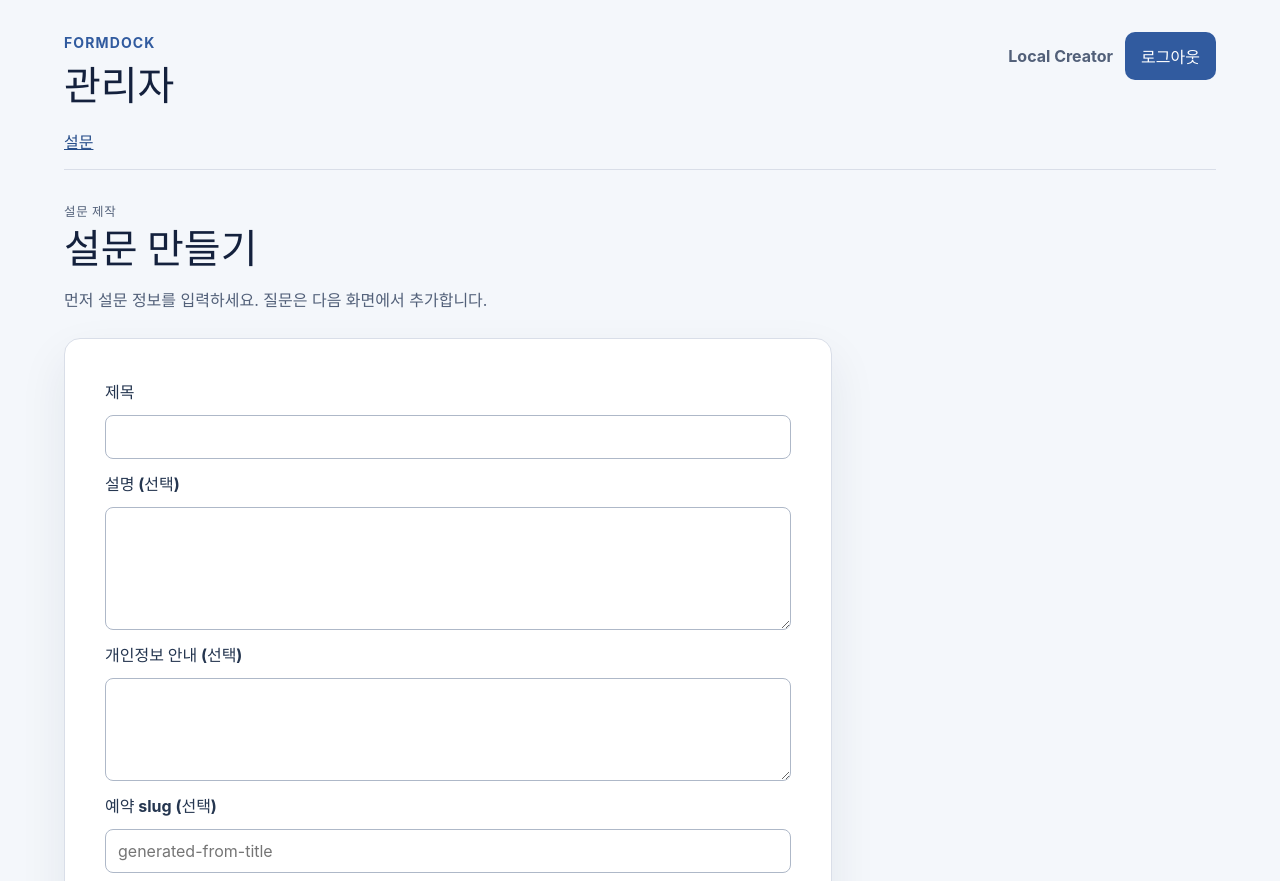
Survey Creator workflow › should_createSurvey_withNullGeneratedSlugIntent_andNavigateToBuilder
This screenshot has width=1280, height=881.
Expected: the heading "설문 만들기" is shown, x1=64 y1=224 x2=258 y2=273
Type " Research survey " into the field labelled "제목" at (448, 437), box x1=105 y1=415 x2=791 y2=459
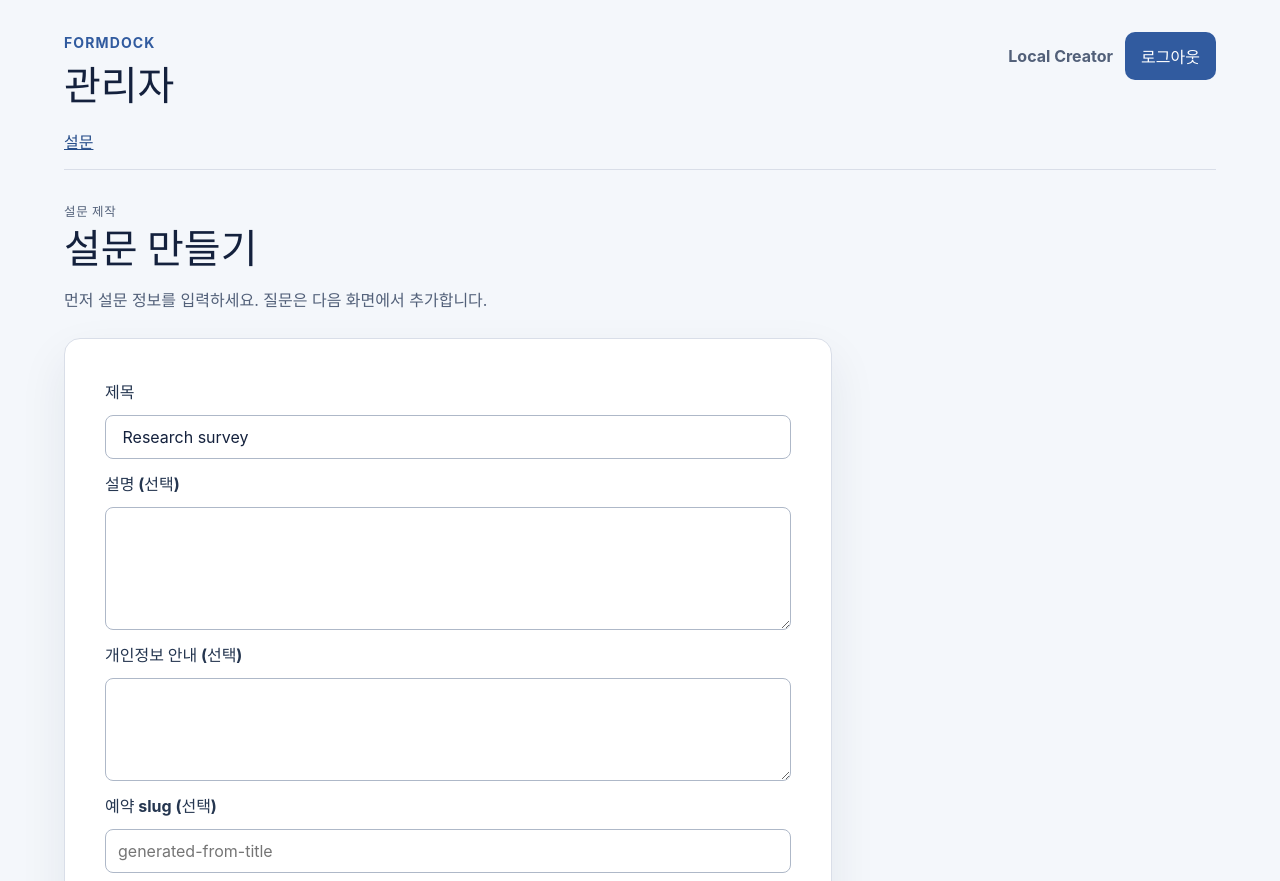
Type " Discovery " into the text box labelled "설명 (선택)" at (448, 568), box x1=105 y1=507 x2=791 y2=630
(page scrolled)
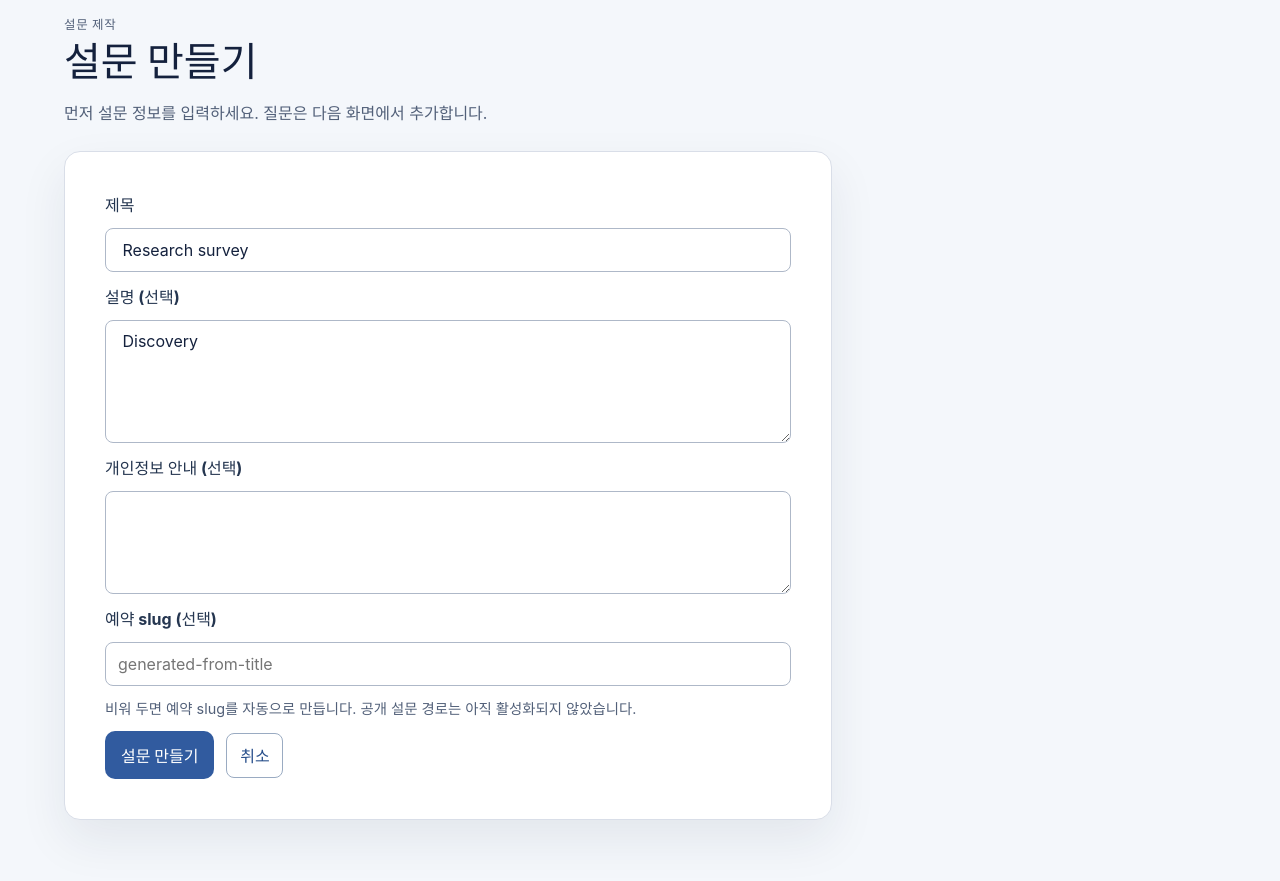
Click the button "설문 만들기" at (160, 755), box x1=105 y1=731 x2=214 y2=779
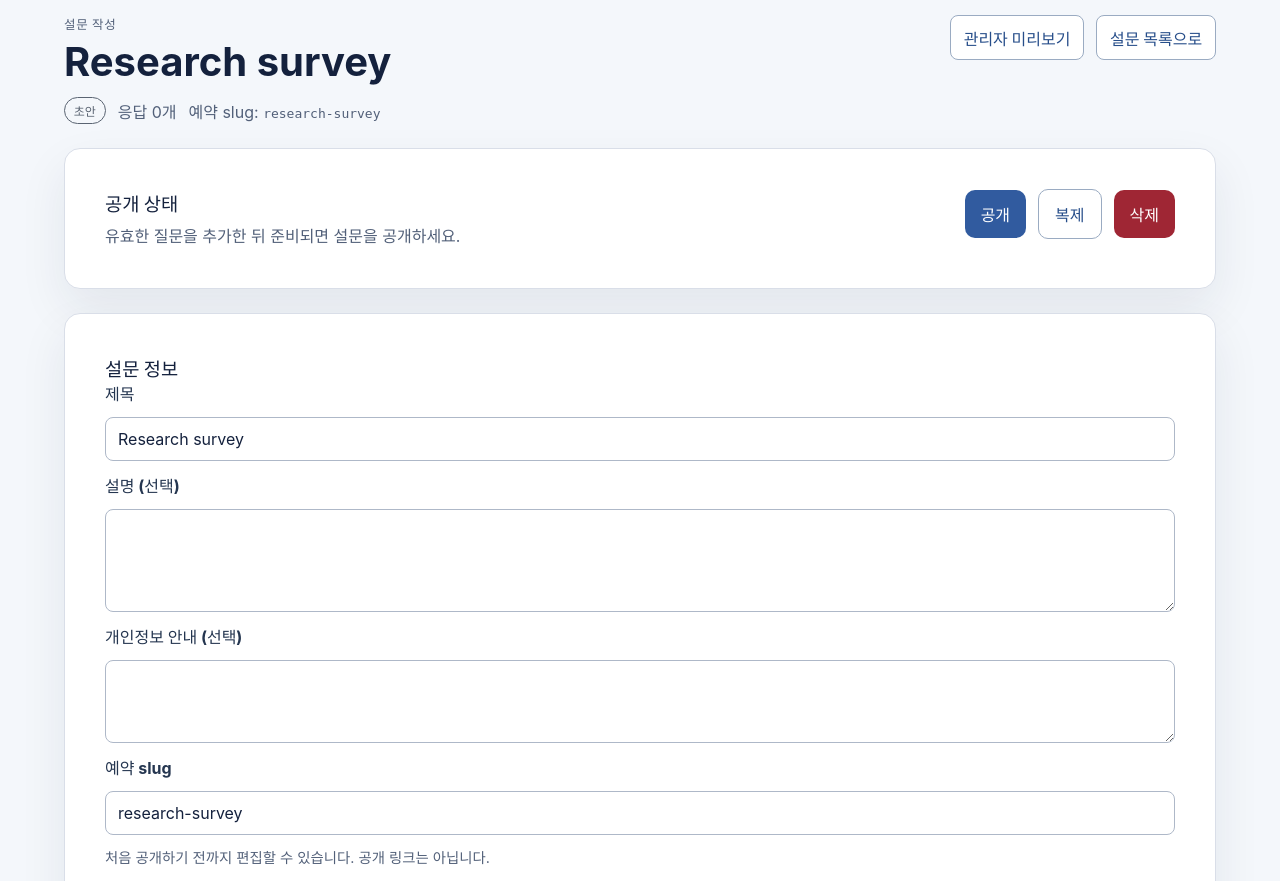
Expected: the heading "Research survey" is shown, x1=64 y1=39 x2=391 y2=85
